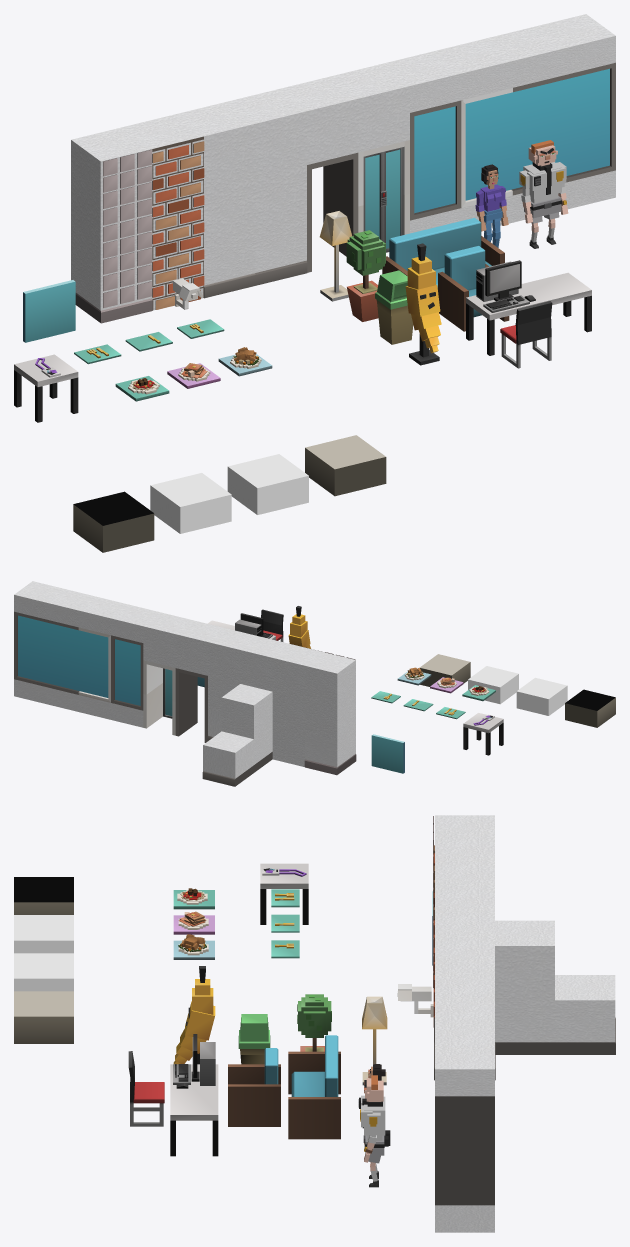
File: thewholething.fbx
The picture shows the model from 3 angles, top to bottom: view 1: azimuth 30°, elevation 25°; view 2: azimuth 150°, elevation 25°; view 3: azimuth 270°, elevation 25°; orthographic projection. The views are drawn at different scales.
Parts seen in each view (by area): view 1: mesh_alpha (×4), mesh_wall_tiles, mesh_wall_plain, mesh_wall_blue, mesh_wall_brick, mesh_door, mesh_door_slide, mesh_wall_window_left, mesh_wall_window_one, mesh_wall_window_right, mesh_floor3, mesh_floor (+21 smaller); view 2: mesh_alpha (×4), mesh_wall_tiles, mesh_wall_brick, mesh_door, mesh_door_slide, mesh_wall_plain_2, mesh_wall_blue, mesh_wall_window_one, mesh_wall_plain_1, mesh_wall_window_left, mesh_wall_window_right, mesh_wall_window_mid (+14 smaller); view 3: mesh_wall_window_left, mesh_wall_plain_2, mesh_armchair1, mesh_wall_plain_1, mesh_armchair, mesh_floor, mesh_desk, mesh_floor1, mesh_floor2, mesh_floor3, mesh_guard, mesh_banana (+19 smaller).
Part boxes in pixels (box(x1,y1,x2,y2)): mesh_alpha (×4): box(414, 68, 609, 213); mesh_wall_tiles: box(71, 127, 152, 323); mesh_wall_plain: box(174, 102, 255, 298); mesh_wall_blue: box(226, 89, 307, 285); mesh_wall_brick: box(123, 114, 204, 310); mesh_door: box(277, 77, 358, 272); mesh_door_slide: box(329, 64, 409, 234); mesh_wall_window_left: box(535, 14, 615, 209); mesh_wall_window_one: box(380, 52, 461, 233); mesh_wall_window_right: box(432, 39, 512, 227); mesh_floor3: box(73, 491, 154, 552); mesh_floor: box(305, 435, 386, 496); mesh_alpha (×4): box(18, 615, 140, 705); mesh_wall_tiles: box(304, 652, 356, 775); mesh_wall_brick: box(272, 644, 323, 766); mesh_door: box(175, 620, 226, 742); mesh_door_slide: box(143, 612, 193, 735); mesh_wall_plain_2: box(221, 684, 272, 772); mesh_wall_blue: box(207, 628, 258, 740); mesh_wall_window_one: box(111, 605, 161, 727); mesh_wall_plain_1: box(202, 731, 254, 786); mesh_wall_window_left: box(14, 581, 64, 703); mesh_wall_window_right: box(78, 597, 129, 719); mesh_wall_window_mid: box(46, 589, 96, 711); mesh_wall_window_left: box(435, 1044, 494, 1232); mesh_wall_plain_2: box(495, 920, 554, 1054); mesh_armchair1: box(288, 1035, 340, 1139); mesh_wall_plain_1: box(554, 975, 615, 1054); mesh_armchair: box(228, 1048, 280, 1126); mesh_floor: box(14, 991, 73, 1043); mesh_desk: box(170, 1064, 218, 1156); mesh_floor1: box(14, 953, 73, 991); mesh_floor2: box(14, 915, 73, 953); mesh_floor3: box(14, 877, 73, 914); mesh_guard: box(358, 1075, 390, 1187); mesh_banana: box(173, 966, 215, 1064).
Size of the model in its own units: 14 by 3.5 by 10.01.
Materials: 12 (2 with a texture image).
